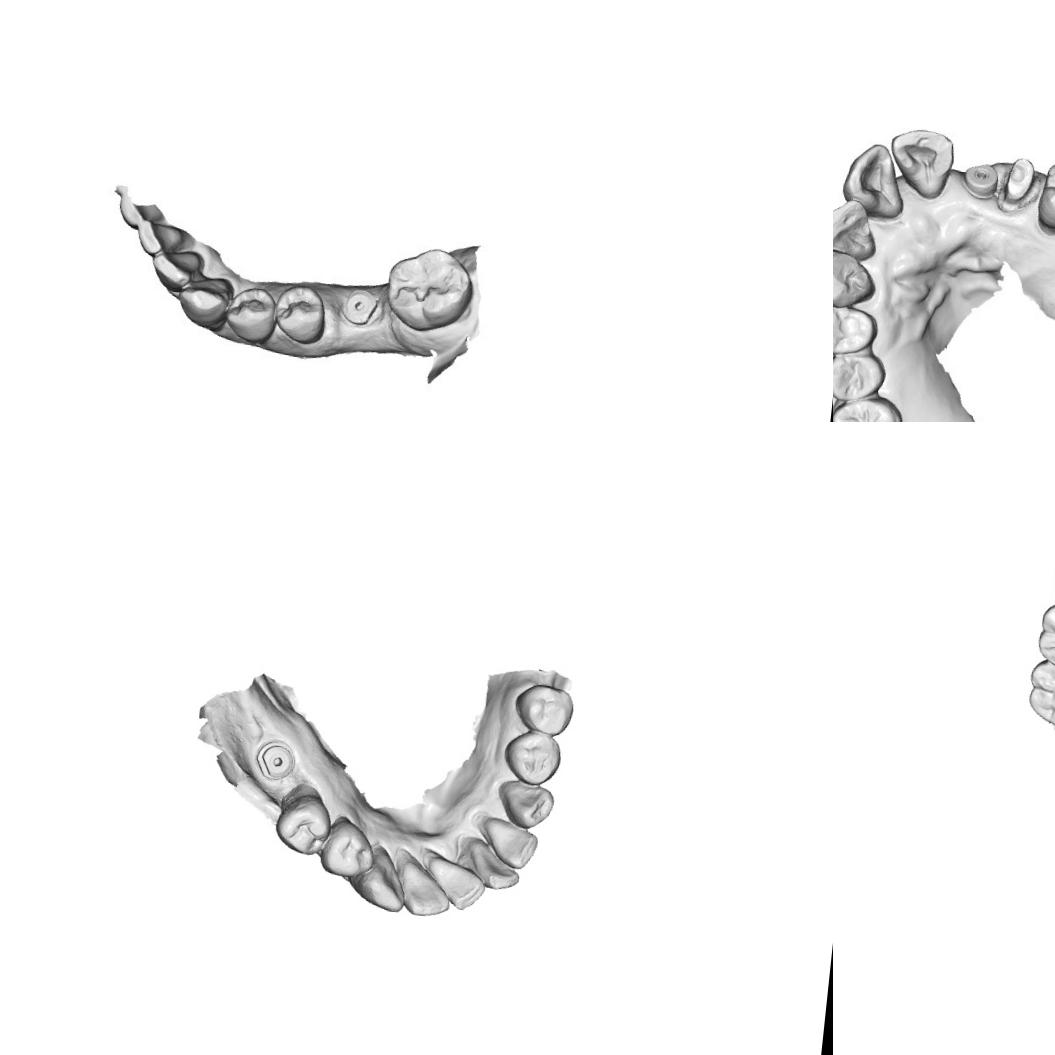canine: (348, 843, 409, 916), (174, 272, 236, 333), (493, 776, 556, 834), (833, 244, 880, 311)
crown: (1000, 150, 1040, 212)
implant: (252, 740, 300, 785), (340, 284, 380, 329), (960, 158, 1001, 200)
incisor: (884, 126, 958, 209), (839, 138, 907, 217), (424, 856, 488, 914), (467, 840, 525, 898), (480, 819, 542, 872), (400, 863, 455, 920), (147, 244, 206, 294), (833, 201, 881, 260), (133, 216, 188, 259)
molar: (380, 242, 480, 338), (833, 391, 909, 422), (1025, 661, 1055, 731), (1031, 602, 1055, 681)
premolar: (270, 794, 330, 860), (316, 820, 378, 883), (512, 680, 576, 739), (501, 728, 562, 789), (272, 282, 330, 346), (833, 347, 889, 403), (229, 287, 278, 344), (833, 300, 880, 358), (1033, 153, 1055, 237)
